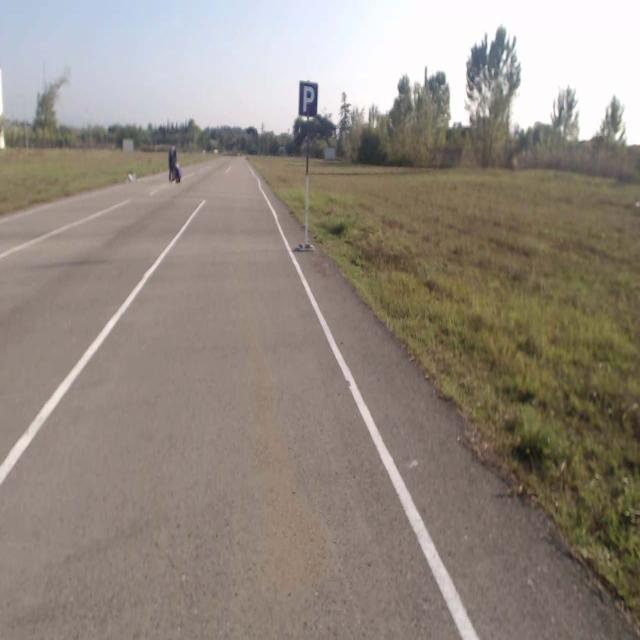park: (299, 82, 315, 118)
